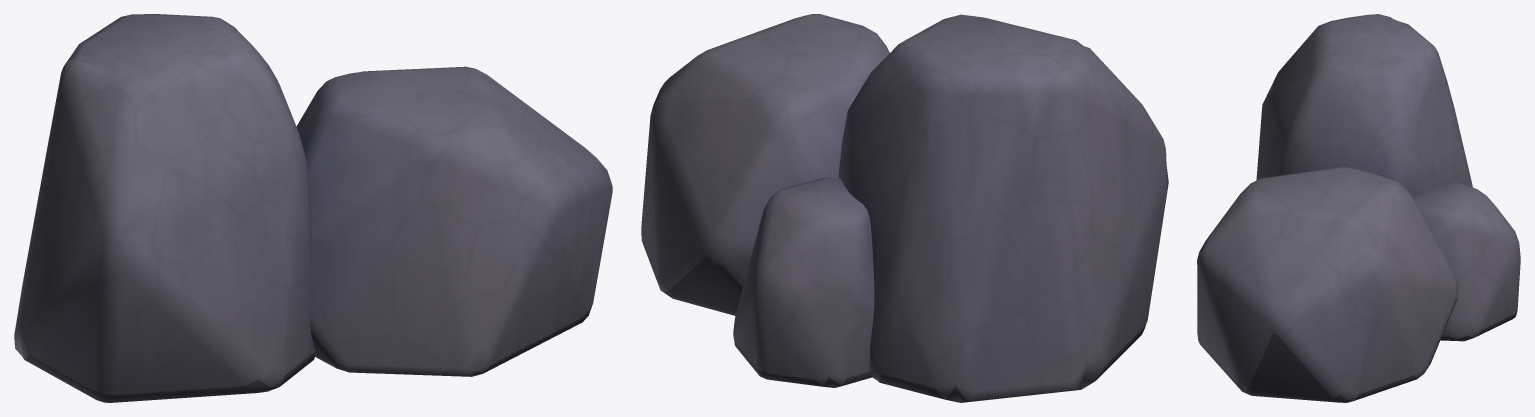
The model's file is EF_P02_CooledLavaRocks.fbx.
The picture shows the model from 3 angles, left to right: view 1: azimuth 30°, elevation 25°; view 2: azimuth 150°, elevation 25°; view 3: azimuth 270°, elevation 25°; orthographic projection. The views are drawn at different scales.
Parts seen in each view (by area): view 1: Rock_A, Rock_B; view 2: Rock_A, Rock_B, Rock_C; view 3: Rock_B, Rock_A, Rock_C.
Boxes of the visible parts, x1=… form: Rock_A: x1=14, y1=14, x2=315, y2=402; Rock_B: x1=296, y1=66, x2=612, y2=376; Rock_A: x1=838, y1=14, x2=1168, y2=402; Rock_B: x1=641, y1=14, x2=889, y2=315; Rock_C: x1=733, y1=177, x2=874, y2=387; Rock_B: x1=1197, y1=167, x2=1458, y2=402; Rock_A: x1=1256, y1=14, x2=1472, y2=197; Rock_C: x1=1413, y1=182, x2=1520, y2=341.
Size of the model in its own units: 2.5 by 1.4 by 1.8.
